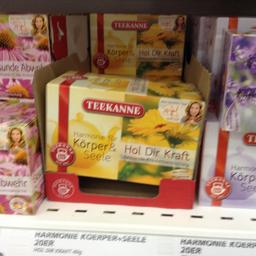tea: (44, 66, 204, 185), (87, 9, 185, 74)
